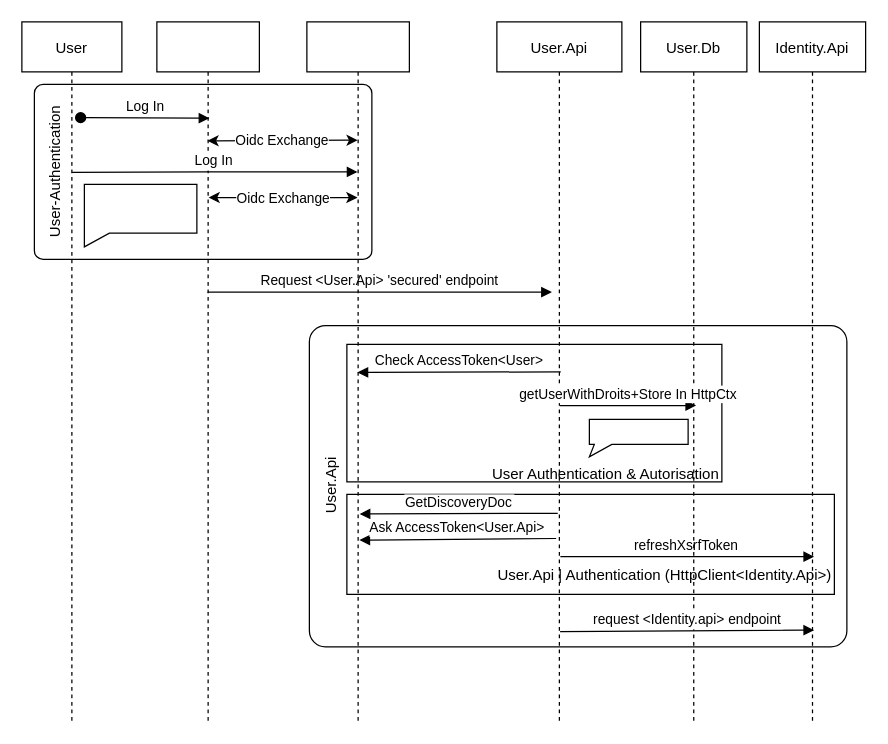
Some shapes in this 888 by 744 pixel diagram are drawn without their labels. The shapes that lost their labels are listed below. From the top down, each one's box as (x1, y1, x2, y2) in pixels, then its label:
(83, 183, 197, 247): AccessToken <User> Received
(156, 21, 259, 722): User.App
(306, 21, 409, 722): Identity.Auth
(588, 418, 688, 457): Check Droit
